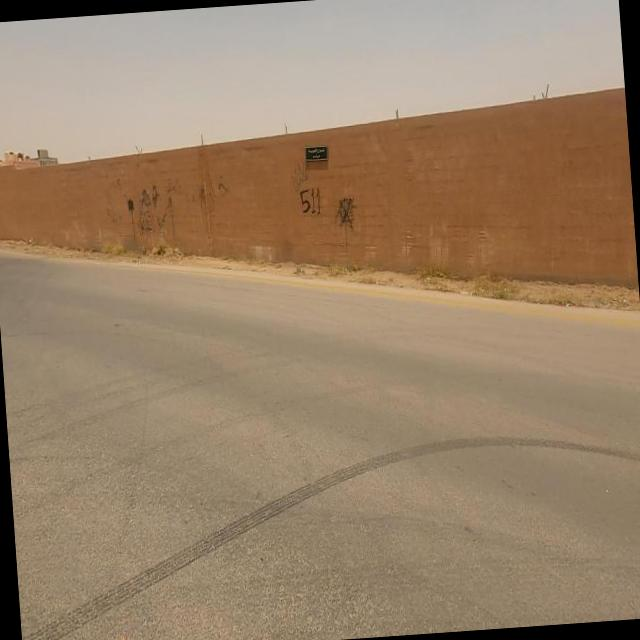debris: (93, 135, 217, 284), (247, 154, 398, 269)
